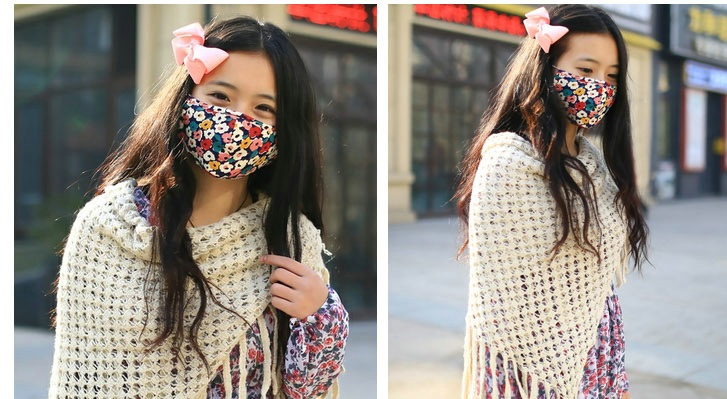face_mask: (183, 51, 280, 166), (555, 33, 621, 123)
